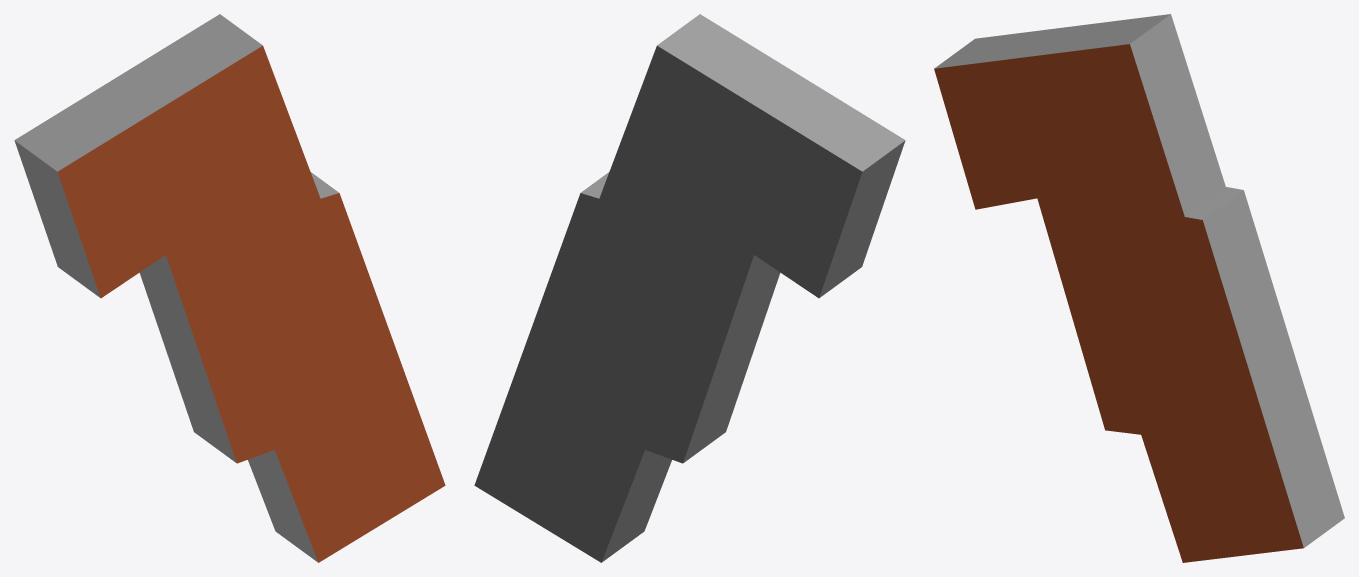
The model's file is construction_3785_assumed_A_Casa_h6m.obj.
3 views of the same model, side by side, from view 1: azimuth 30°, elevation 25°; view 2: azimuth 150°, elevation 25°; view 3: azimuth 330°, elevation 25° (orthographic). The views are drawn at different scales.
Parts seen in each view (by area): view 1: construction_3785_assumed_A_Casa; view 2: construction_3785_assumed_A_Casa; view 3: construction_3785_assumed_A_Casa.
Boxes of the visible parts, x1=… form: construction_3785_assumed_A_Casa: x1=14, y1=14, x2=445, y2=562; construction_3785_assumed_A_Casa: x1=474, y1=14, x2=905, y2=562; construction_3785_assumed_A_Casa: x1=934, y1=14, x2=1344, y2=562.
Size of the model in its own units: 31.2 by 40.79 by 6.
